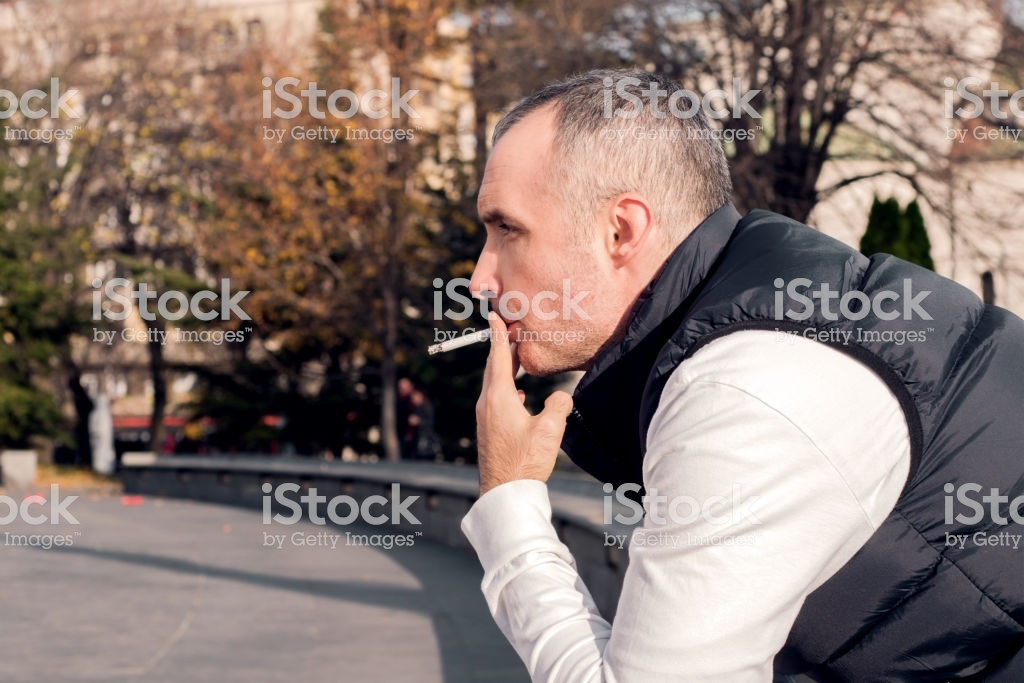sigaretta: (423, 317, 516, 364)
